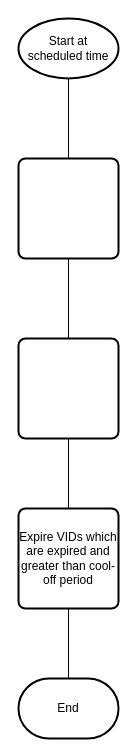
Some shapes in this 136 by 756 pixel diagram are drawn without their labels. The shapes that lost their labels are listed below. From the top down, each one's centre as x and y in pixels, then its label:
the point at 68,208: Query for the expired VIDs
the point at 68,388: Get the cool-off period from config server
